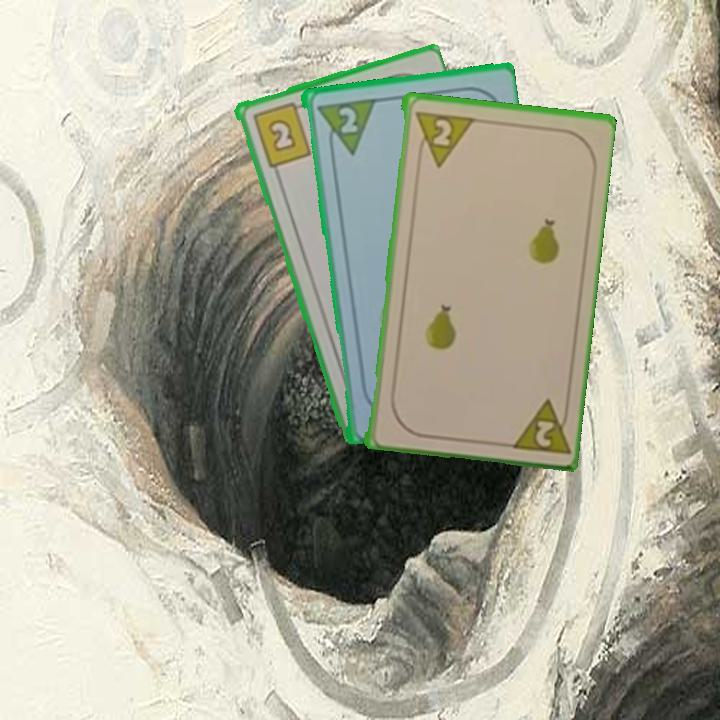2b: (248, 98, 314, 170)
2p: (504, 394, 572, 457), (411, 107, 474, 169), (334, 103, 360, 136)
